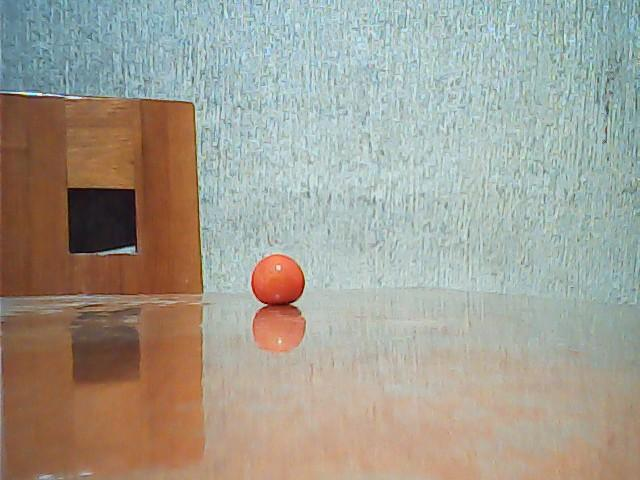maduro: (246, 249, 312, 306)
